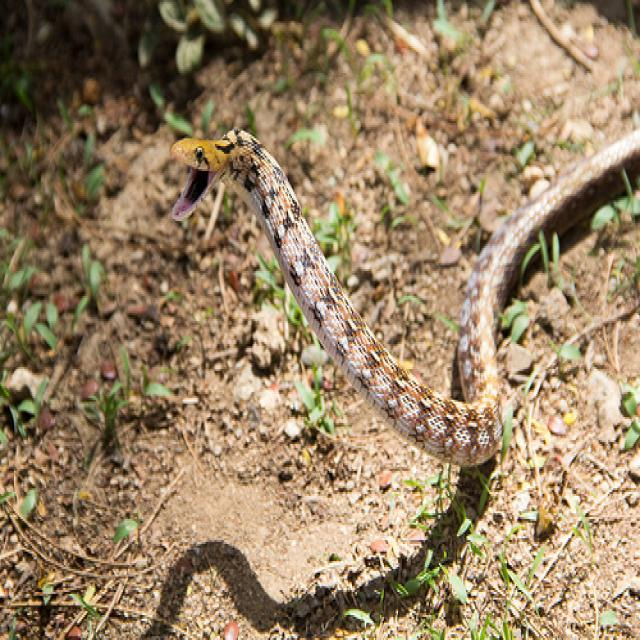Snake: (168, 121, 638, 469)
